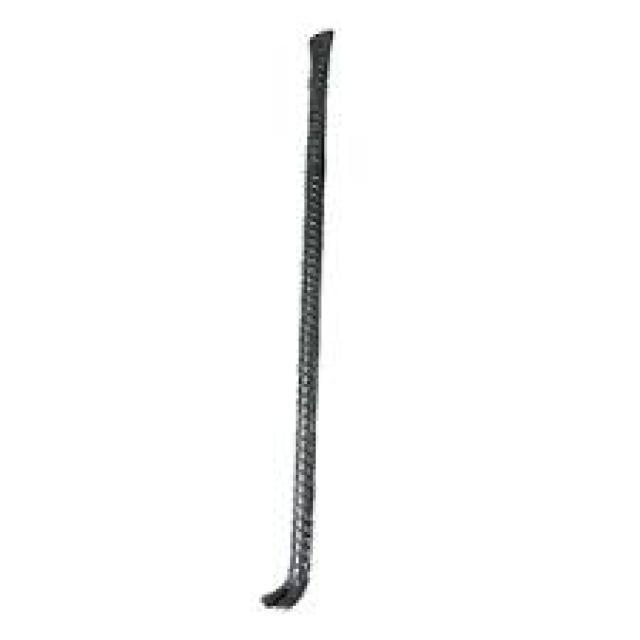Linggis: (252, 21, 346, 628)
